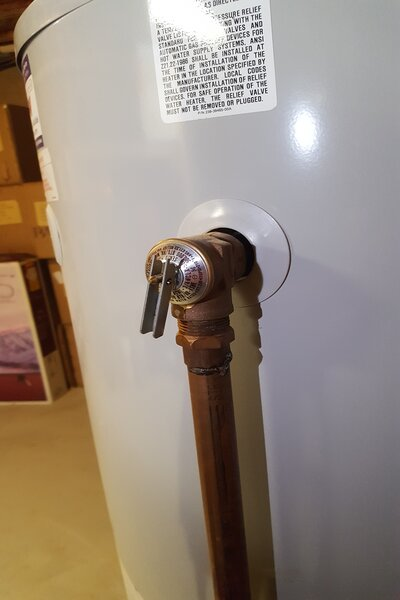valve: (139, 231, 244, 373)
